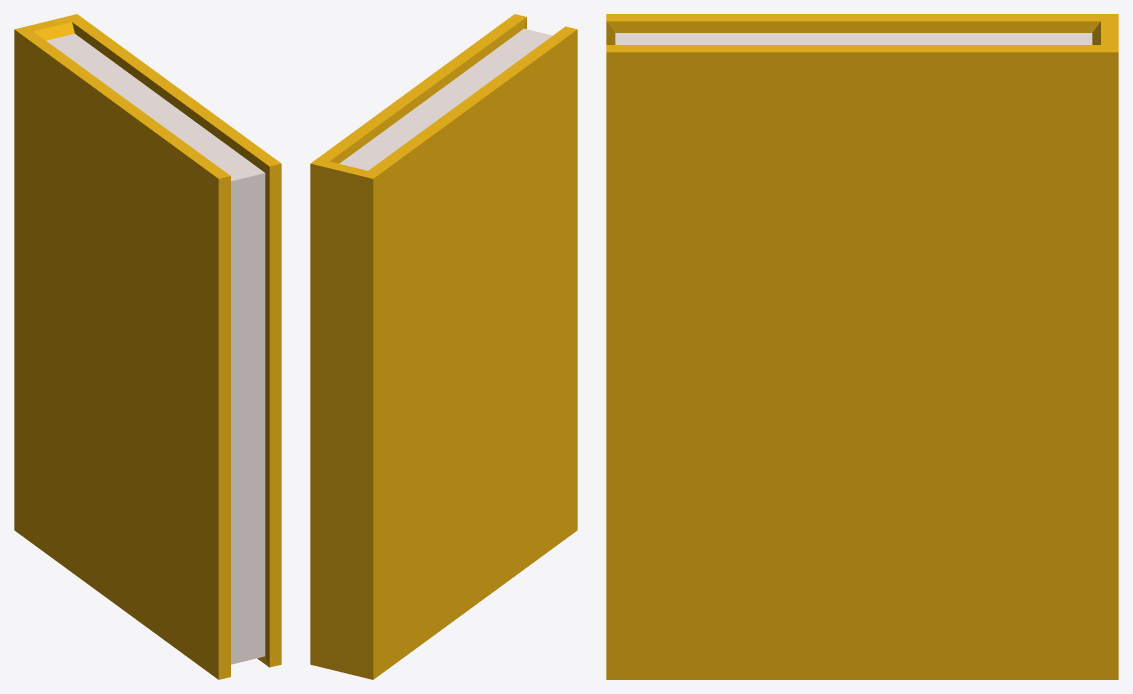
Rendered from Book_Yellow.fbx.
3 views of the same model, side by side, from view 1: azimuth 30°, elevation 25°; view 2: azimuth 150°, elevation 25°; view 3: azimuth 270°, elevation 25° (orthographic). The views are drawn at different scales.
Visible parts, largest first — view 1: Book_Yellow; view 2: Book_Yellow; view 3: Book_Yellow.
Boxes of the visible parts, x1=… form: Book_Yellow: x1=14, y1=14, x2=281, y2=679; Book_Yellow: x1=310, y1=14, x2=577, y2=679; Book_Yellow: x1=606, y1=14, x2=1118, y2=679.
Bounding box in the file's own units: 6.08 × 46.32 × 34.25.
